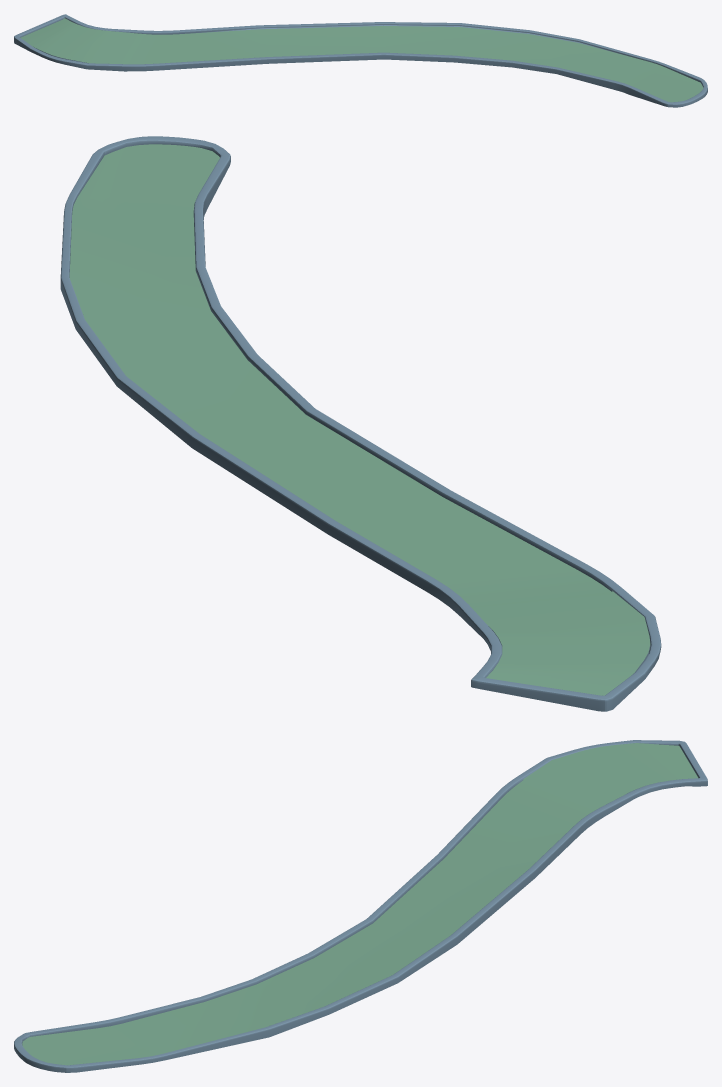
Rendered from TreeSection2.fbx.
3 renders of one model, top to bottom at view 1: azimuth 30°, elevation 25°; view 2: azimuth 150°, elevation 25°; view 3: azimuth 270°, elevation 25°, orthographic. The views are drawn at different scales.
Visible parts, largest first — view 1: TreeSection2; view 2: TreeSection2; view 3: TreeSection2.
Boxes of the visible parts, box(x1,y1,x2,y2) form: TreeSection2: box(14, 14, 707, 107); TreeSection2: box(60, 136, 661, 711); TreeSection2: box(14, 740, 707, 1072).
Bounding box in the file's own units: 2281 × 41.81 × 2040.
